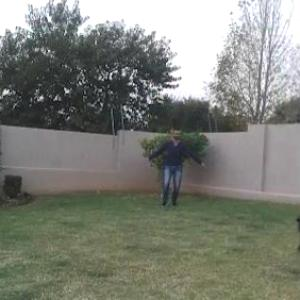land: (143, 118, 214, 213)
